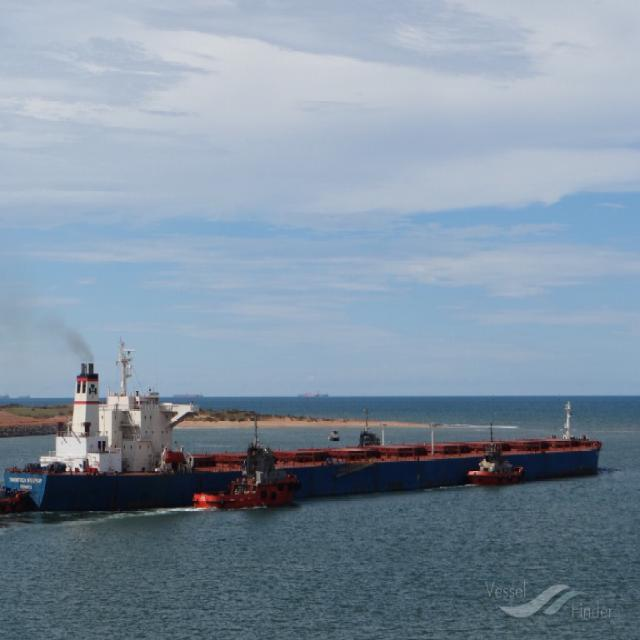OCR: (8, 472, 44, 494)
